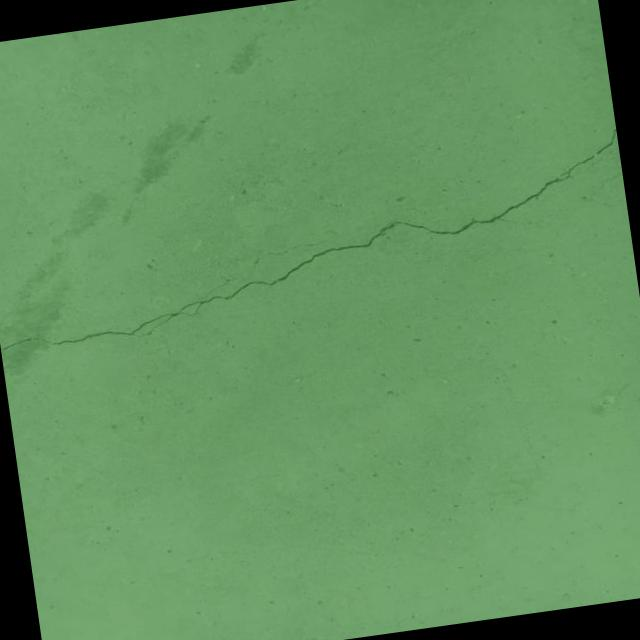crack: (0, 128, 635, 357)
